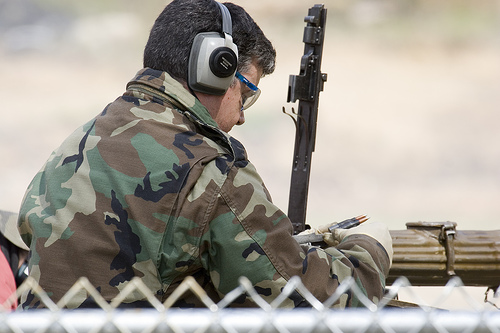rifle: (279, 5, 338, 232)
rifle in hand: (272, 7, 490, 297)
